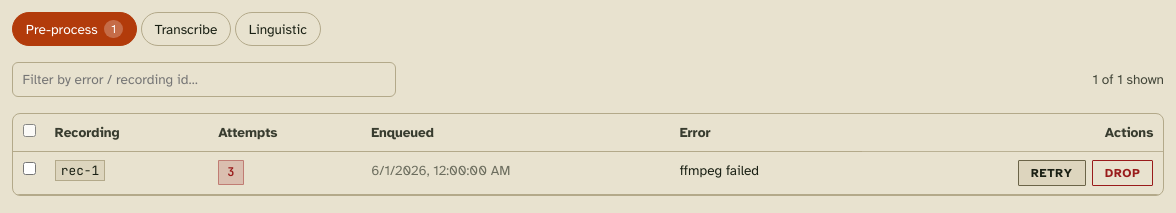
Test case: DlqList (#107) › retries a single message and removes it from the list
Expected: the text "rec-1" is shown, [55,160,105,181]
Click the button "Retry" at (1052, 173), box [1018,160,1086,186]
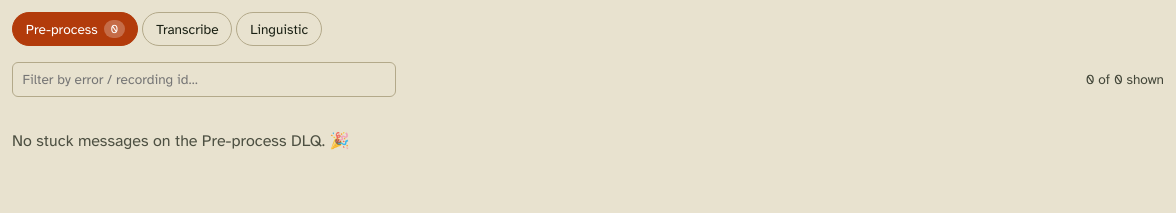
Expected: the text "rec-1" is gone
